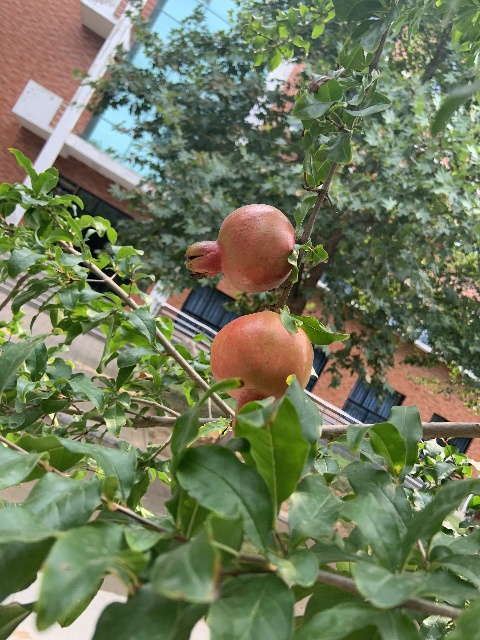ripe: (210, 311, 314, 439), (185, 203, 296, 293)
